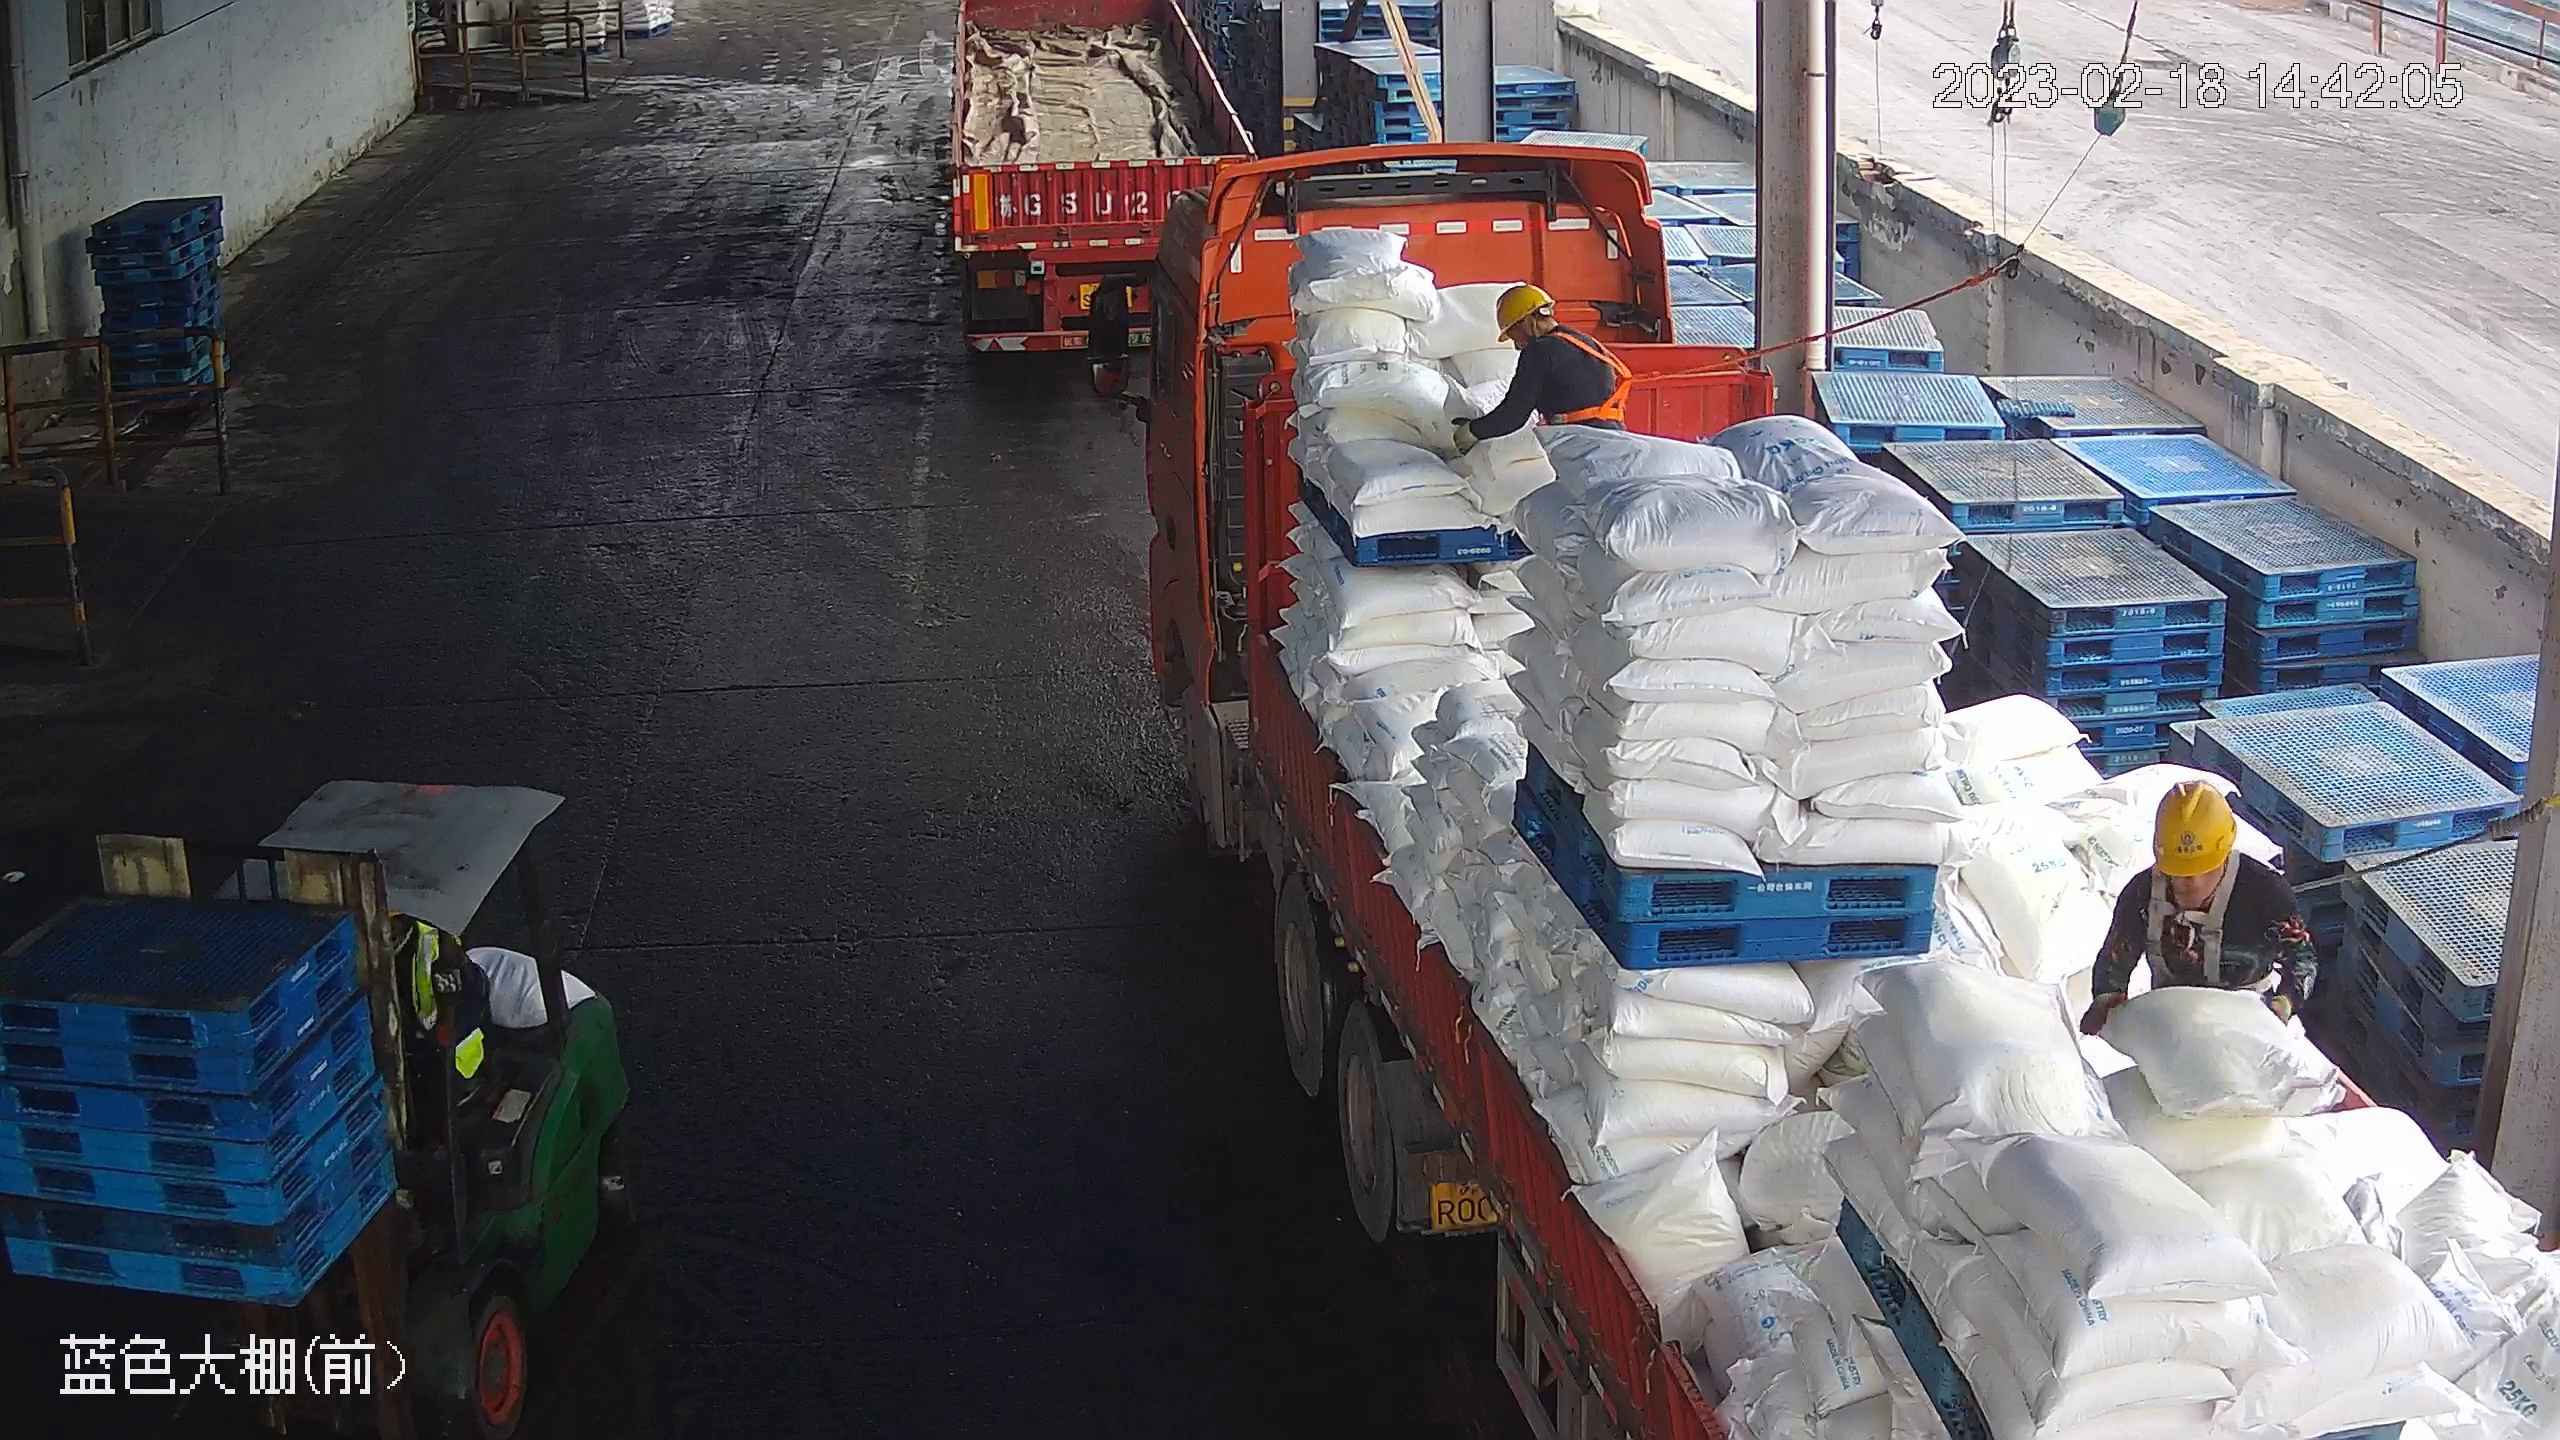belt: (2146, 873, 2246, 975), (1544, 324, 1642, 426)
head: (2108, 774, 2291, 933), (1490, 281, 1605, 382)
helmet: (2146, 774, 2240, 878), (1490, 281, 1555, 337)
truck: (1094, 141, 2555, 1439), (945, 1, 1257, 362)
